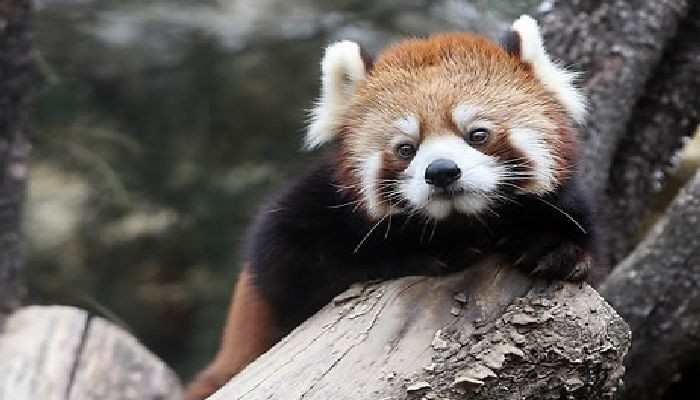redPanda: (205, 11, 626, 320)
